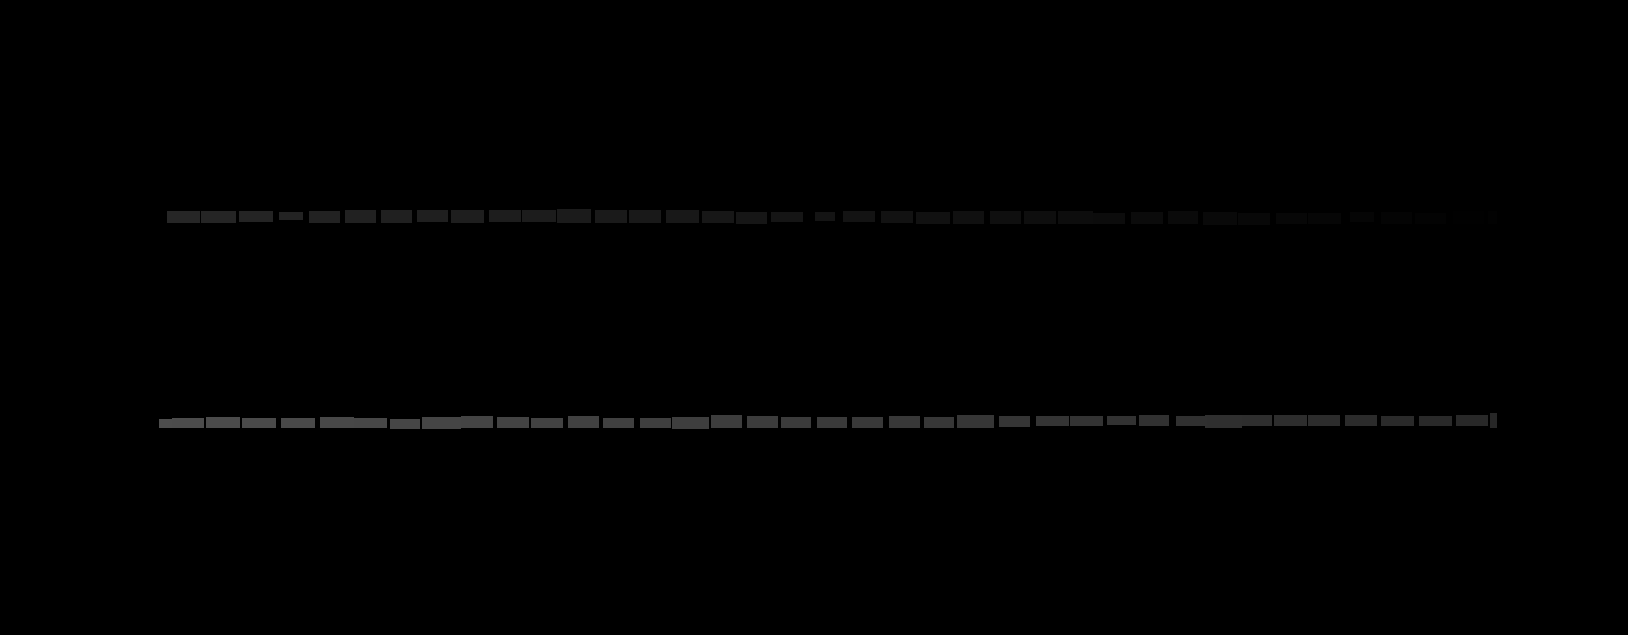light: (557, 209, 591, 223), (1058, 211, 1093, 224), (1205, 415, 1242, 427), (957, 415, 994, 427), (422, 417, 461, 429), (1203, 212, 1237, 225), (666, 210, 699, 223), (451, 210, 484, 223), (1024, 211, 1056, 224), (629, 210, 661, 223), (595, 210, 627, 223), (916, 212, 950, 224), (522, 210, 557, 222), (201, 211, 236, 223), (672, 417, 709, 429), (1453, 211, 1484, 224), (953, 211, 984, 224), (381, 210, 412, 223), (345, 210, 376, 223), (167, 211, 200, 223), (1168, 211, 1198, 224), (991, 211, 1021, 224), (1238, 213, 1270, 225), (1131, 212, 1163, 224), (702, 211, 734, 223), (489, 210, 521, 222), (239, 211, 273, 222), (1381, 212, 1412, 224), (881, 211, 913, 223), (736, 212, 767, 224), (711, 415, 742, 427), (1308, 213, 1341, 224), (1274, 415, 1307, 426), (417, 210, 447, 222), (309, 211, 340, 223), (1093, 213, 1125, 224), (843, 211, 875, 222), (1456, 415, 1488, 426), (1345, 415, 1377, 426), (1308, 415, 1340, 426), (461, 416, 493, 427), (1415, 213, 1446, 224), (1276, 213, 1307, 224), (1241, 415, 1272, 426), (999, 416, 1030, 427), (889, 416, 920, 427), (747, 416, 778, 427), (568, 416, 599, 427), (320, 417, 354, 427), (206, 417, 240, 427), (1381, 416, 1414, 426), (1036, 416, 1069, 426), (1139, 415, 1169, 426), (1419, 416, 1451, 426), (1070, 416, 1103, 426), (497, 417, 530, 427), (771, 212, 803, 222), (1176, 416, 1208, 426), (242, 418, 276, 427), (924, 417, 954, 427), (852, 417, 883, 427), (817, 417, 847, 427), (781, 417, 811, 427), (354, 418, 387, 427), (281, 418, 315, 427), (531, 418, 563, 427), (640, 418, 671, 427), (603, 418, 634, 427), (172, 418, 203, 427), (390, 419, 420, 429), (1107, 416, 1136, 425), (1350, 212, 1374, 222), (279, 212, 303, 220), (815, 212, 835, 221), (1488, 211, 1497, 224), (159, 419, 172, 427), (1490, 413, 1497, 427)
